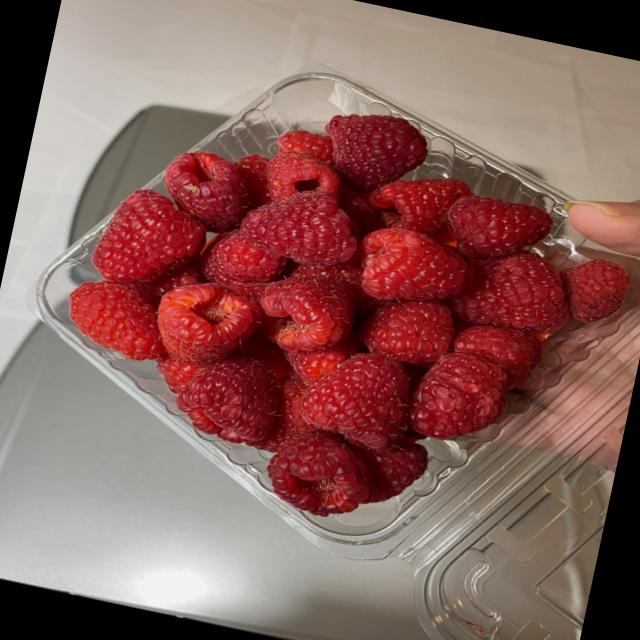raspberries: (52, 94, 599, 512)
